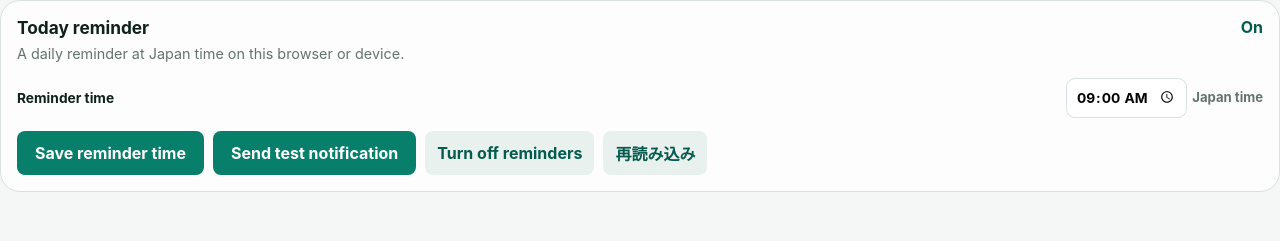
NotificationSettings › includes the endpoint in test and disable requests
expect the text "On" is shown: met, box [1241, 17, 1263, 37]
Click the button "Send test notification".
click(315, 153)  # box [213, 131, 416, 175]
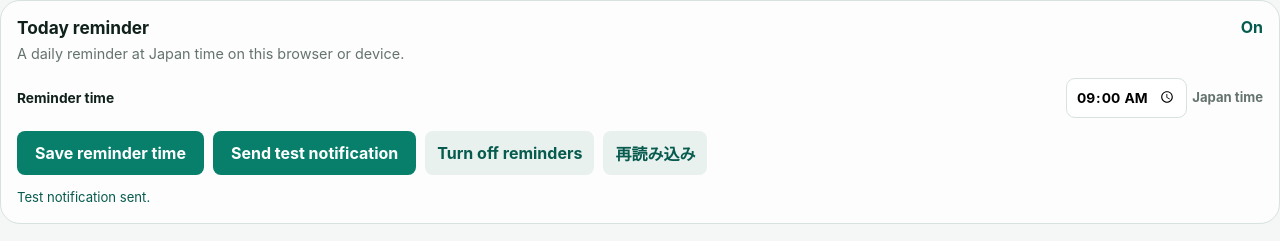
expect the text "Test notification sent." is shown: met, box [17, 189, 150, 205]
Click the button "Turn off reminders".
click(510, 153)  # box [425, 131, 594, 175]
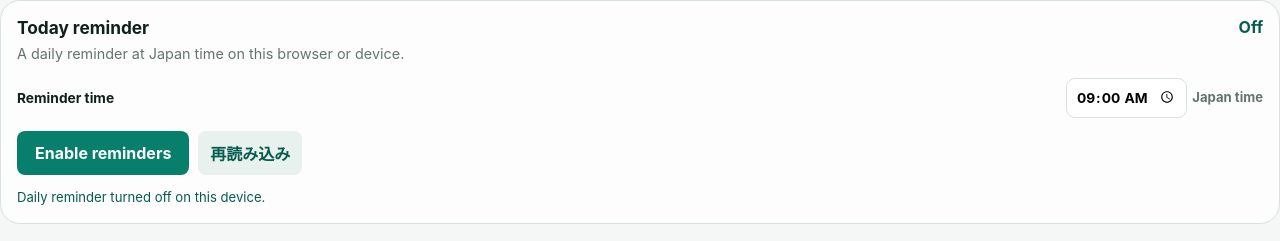
expect the text "Off" is shown: met, box [1239, 17, 1263, 37]
